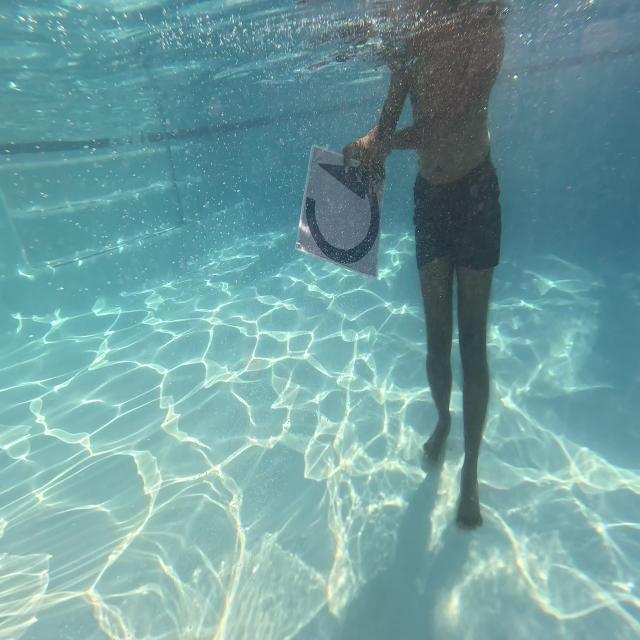blue_side: (297, 138, 385, 278)
